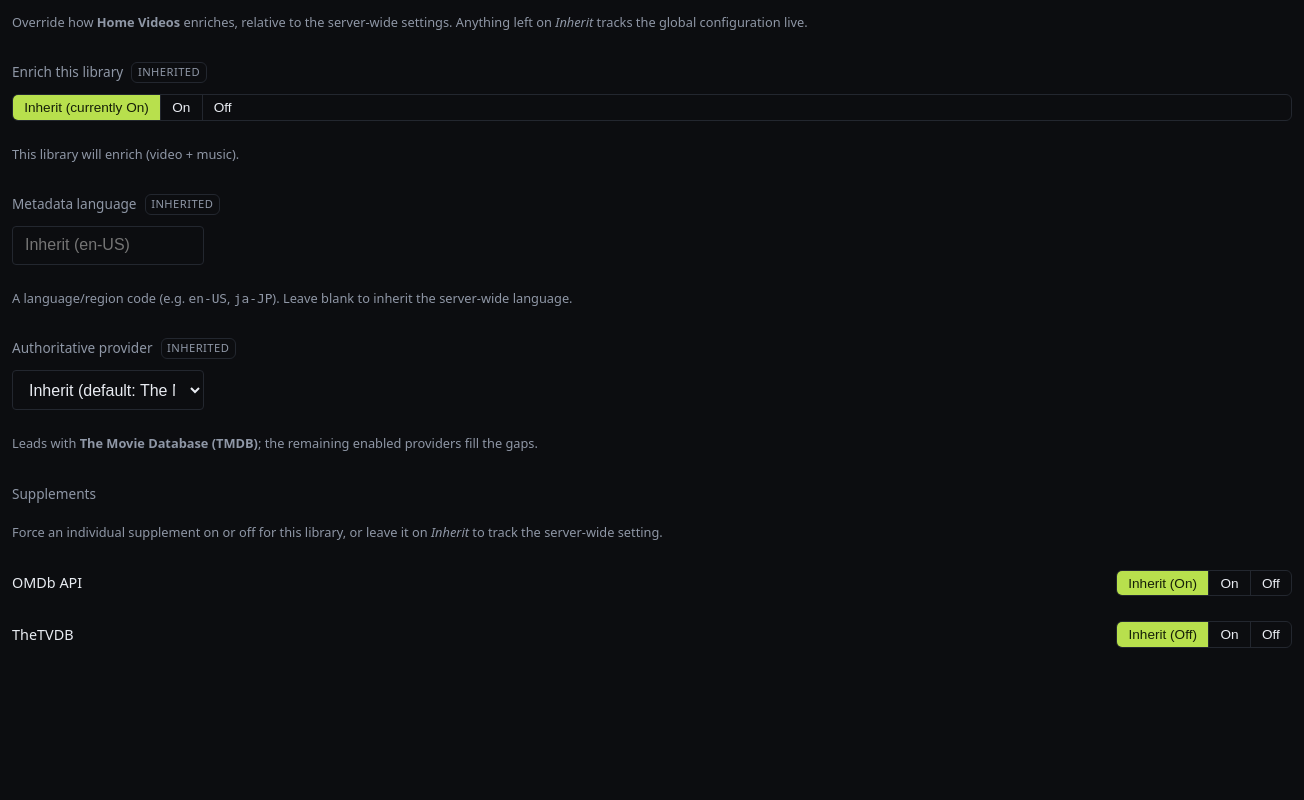
Test: EnrichmentPolicyPanel › committing a language PUTs the override and shows Overridden + a reset
The image size is (1304, 800).
In the field with test id "metadata-language-input": (108, 245) [12,226,204,265], type "ja-JP"
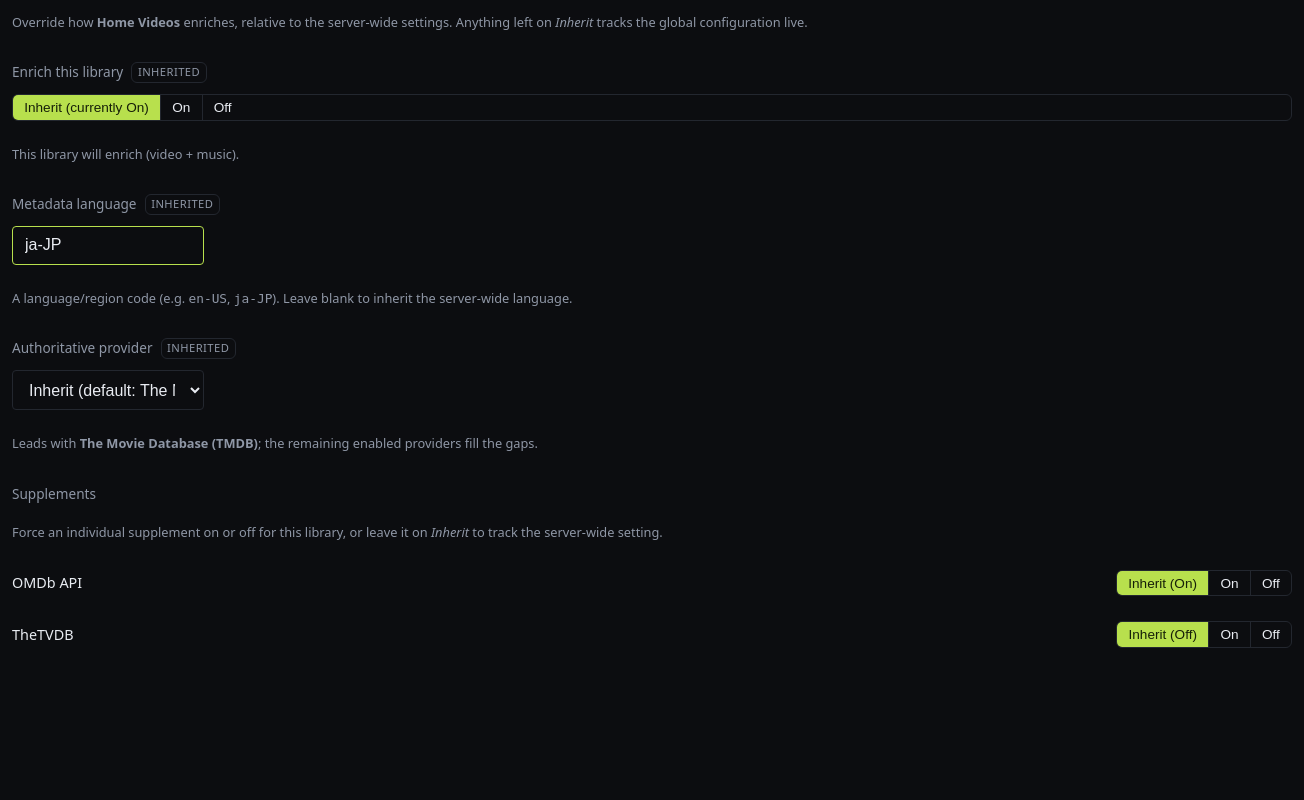
Press Tab
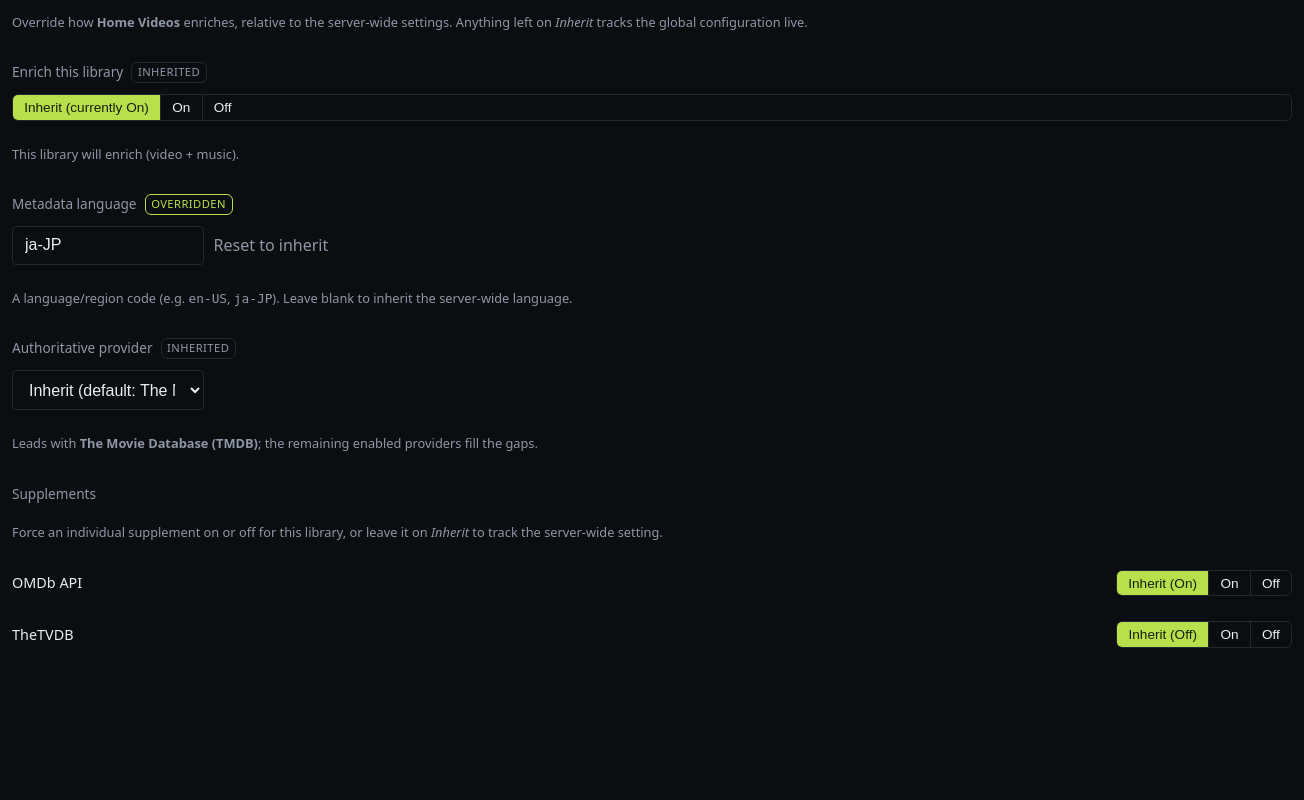
Result: the element with test id "metadata-language-control" shows "Overridden" at [151,196,226,211]
Result: the button with test id "metadata-language-reset" is shown at [214,233,328,257]
